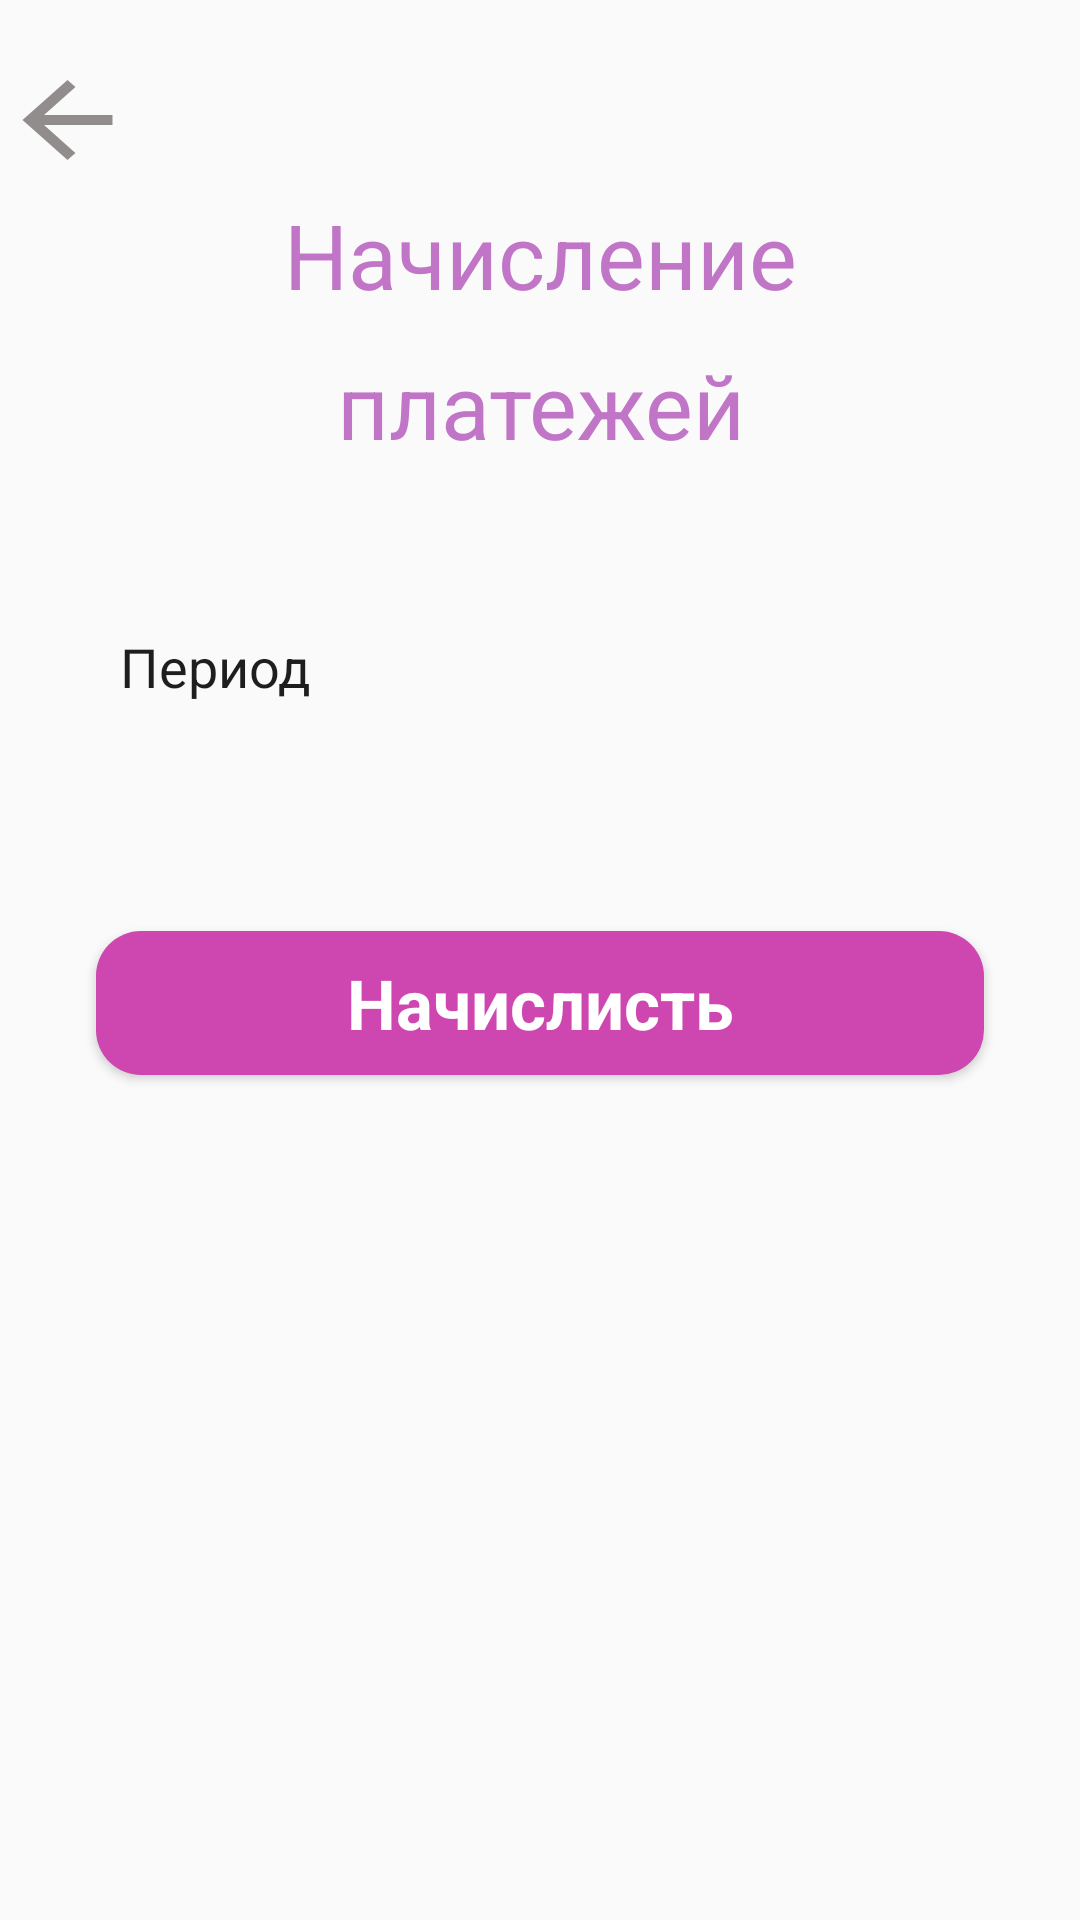

Screen size 1080x1920. Icon name, then its box in pixels as (x1, y1, x2, y2):
arrow back: (23, 80, 113, 160)
